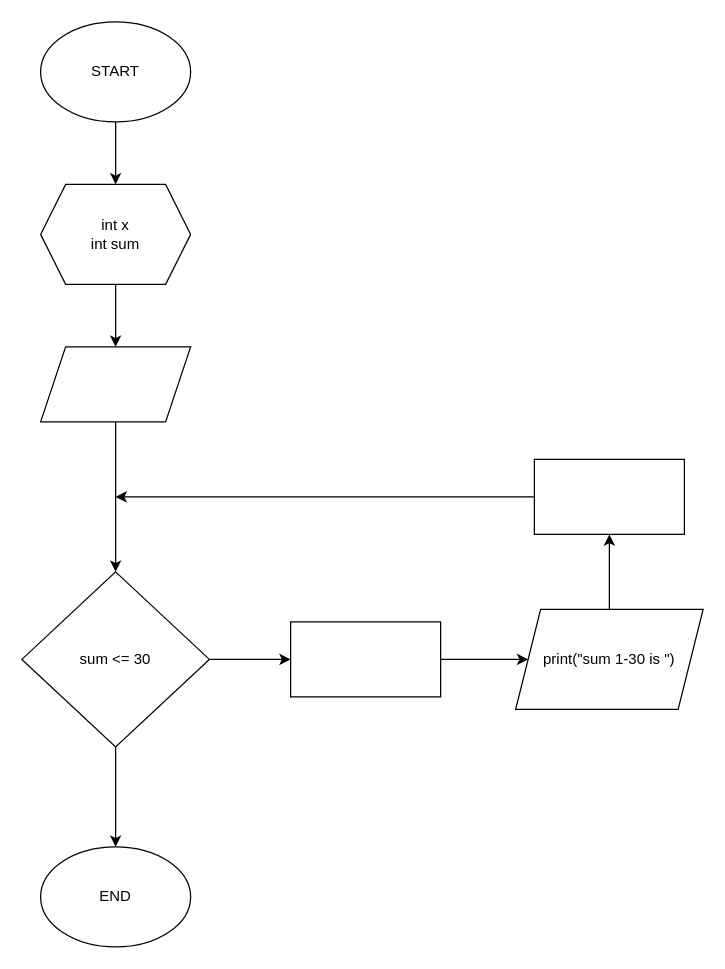
The diagram is 725 pixels wide and 969 high, and some of its shapes have lost their labels. Each missing label, with the centre of its shape:
"int x = 0 int sum = 1" goes at (115,384).
"sum++" goes at (608,496).
"x += sum" goes at (365,659).
